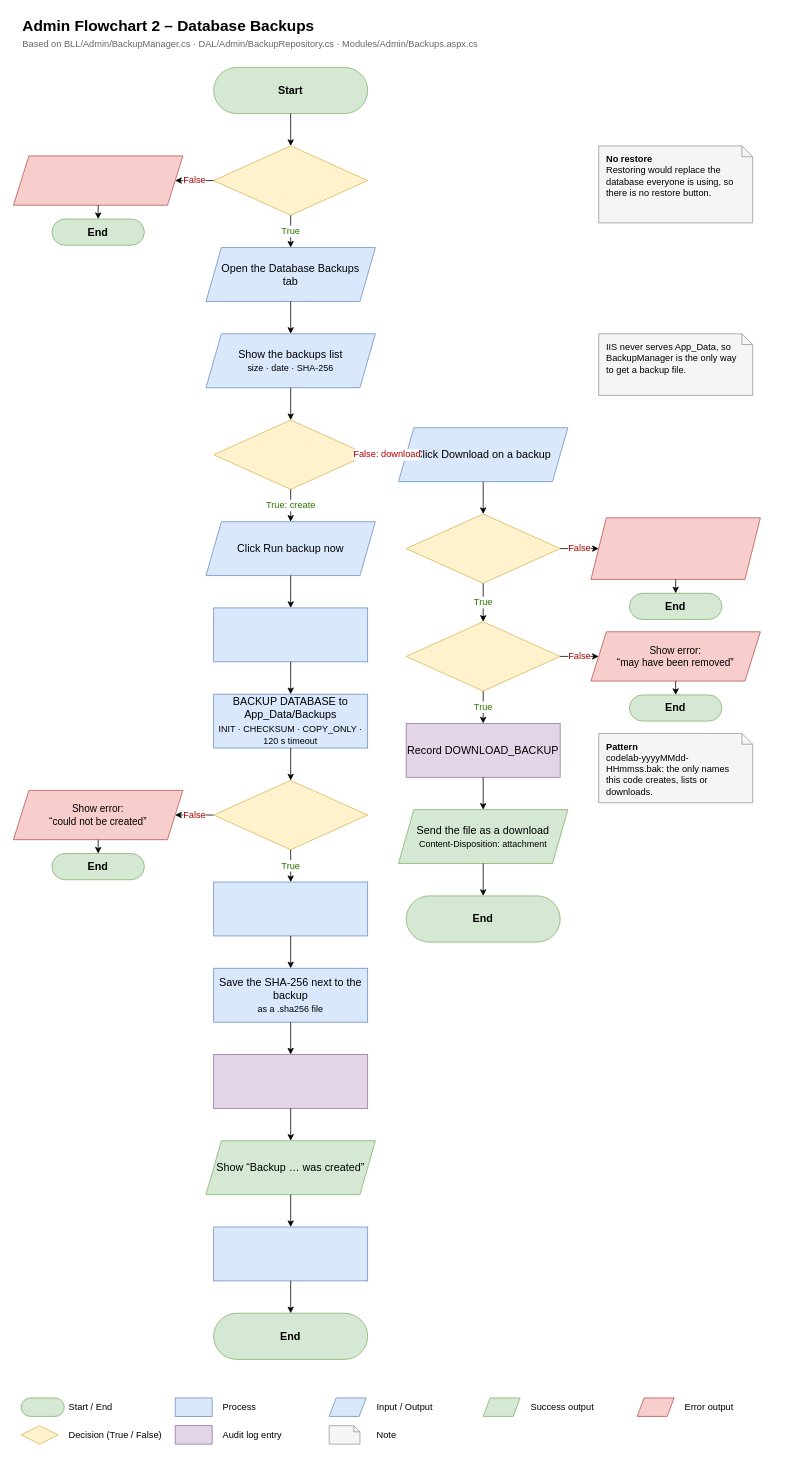
The diagram is 801 pixels wide and 1458 high, and some of its shapes have lost their labels. The box of each missing label's shape, as (x1, y1, x2, y2) in pixels:
Access denied redirected away from the page: (13, 155, 183, 205)
Backup succeeded?: (213, 780, 368, 850)
Compute the SHA-256: (213, 881, 368, 936)
Create a new backup?: (213, 419, 368, 489)
File exists?: (405, 621, 560, 691)
Name matches the pattern?: (405, 513, 560, 583)
Name the backup file codelab-yyyyMMdd-HHmmss.bak: (213, 607, 368, 662)
Record CREATE_BACKUP: (213, 1054, 368, 1108)
Refresh the list: (213, 1226, 368, 1281)
Show error: “could not be found” blocks names like ..\Database.mdf: (590, 517, 760, 579)
Signed in as Admin?: (213, 145, 368, 215)
